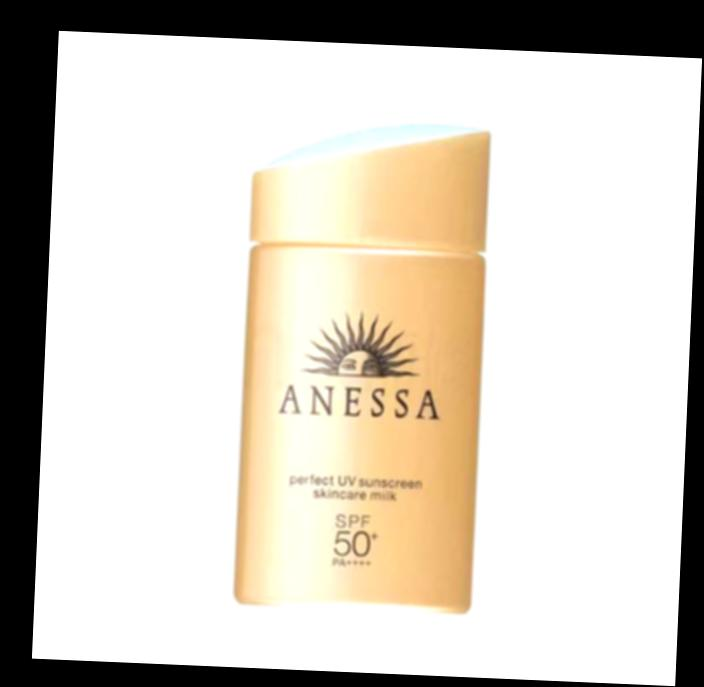cosmetic: (235, 116, 494, 608)
